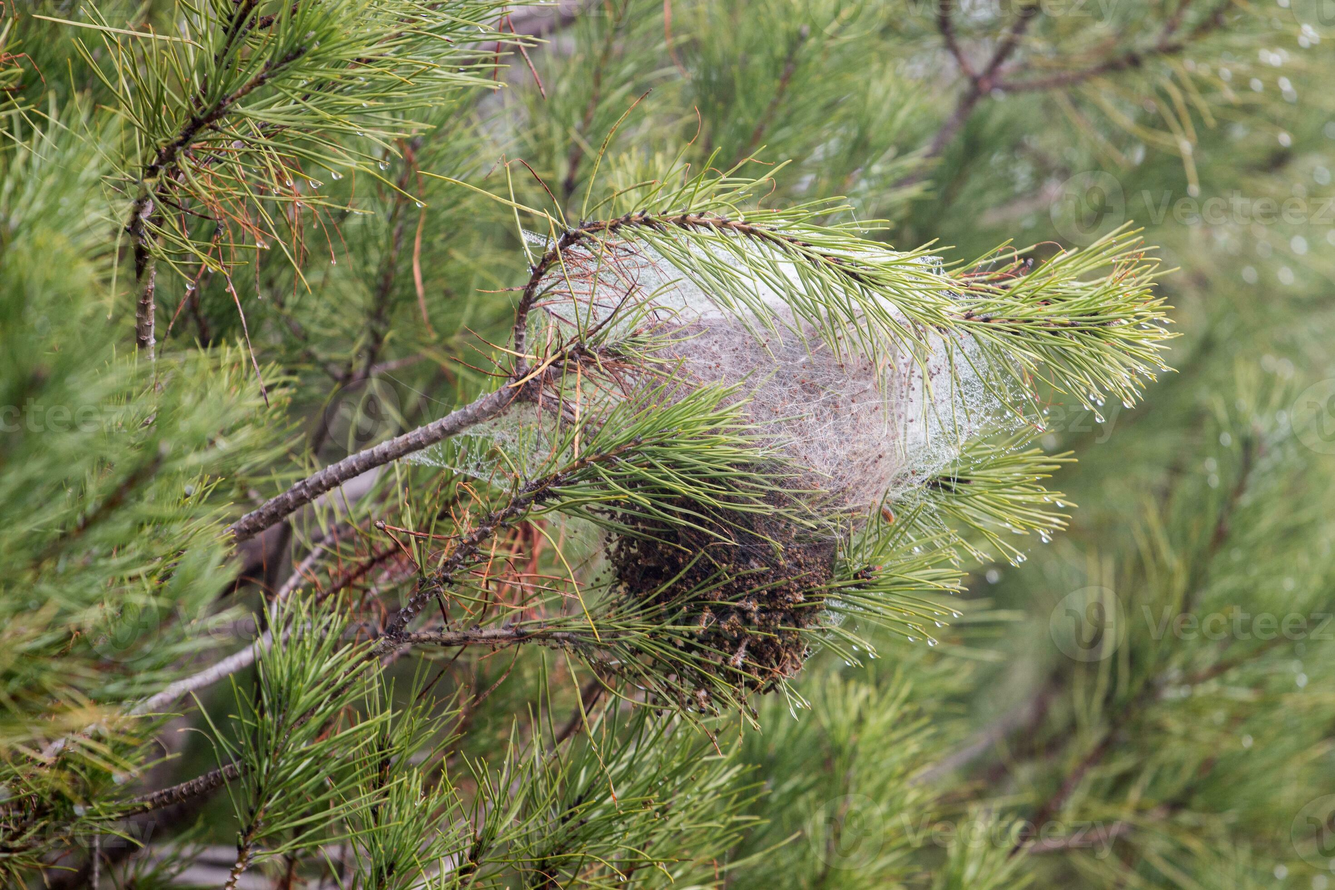thaumatopoea pityocampa jajno gnijezdo: (560, 239, 1059, 596)
